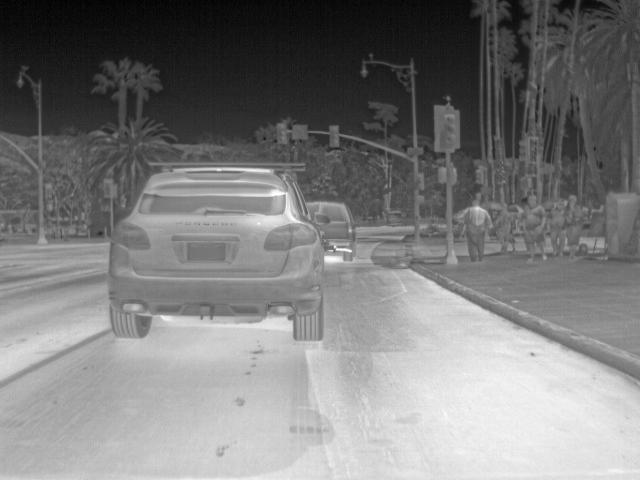car: (105, 158, 327, 340), (304, 198, 354, 262)
person: (459, 200, 495, 262), (521, 192, 549, 260), (547, 190, 566, 255), (492, 201, 512, 253)
